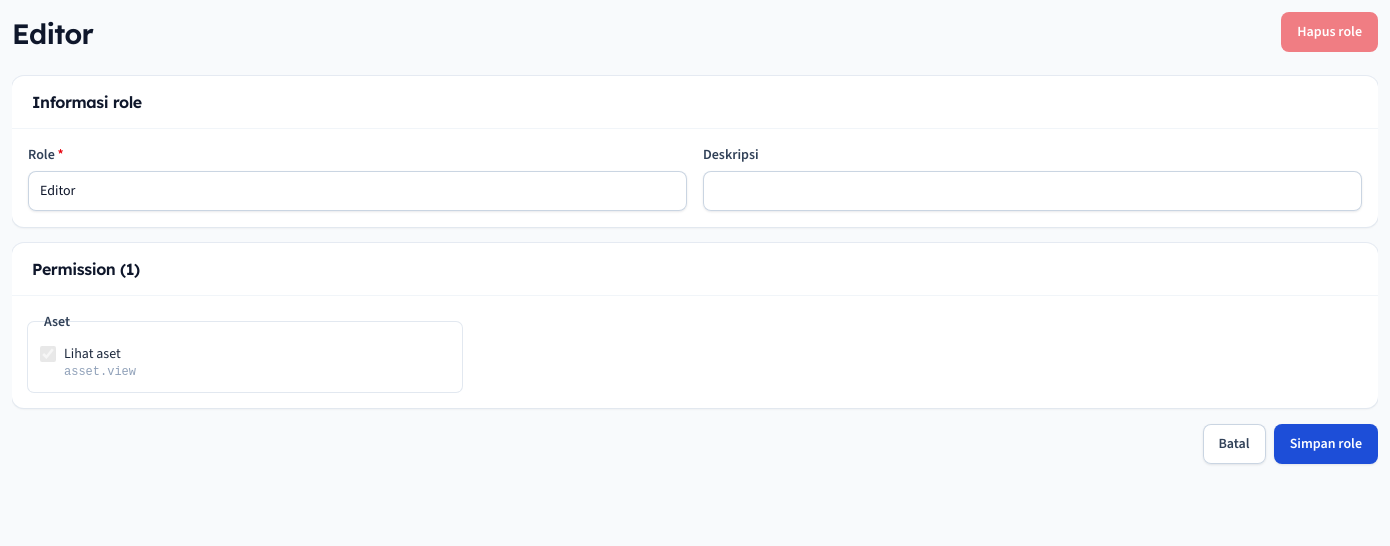
Scenario: RoleFormPage: rejected permission change › stays on the form with the error instead of returning to the list
Expected: the field showing "Editor" is shown, [28, 171, 687, 211]
What coordinates should you click on to do the following:
click the button "Simpan role"
I would click on:
 (1326, 444)
Its box is [1274, 424, 1378, 464].
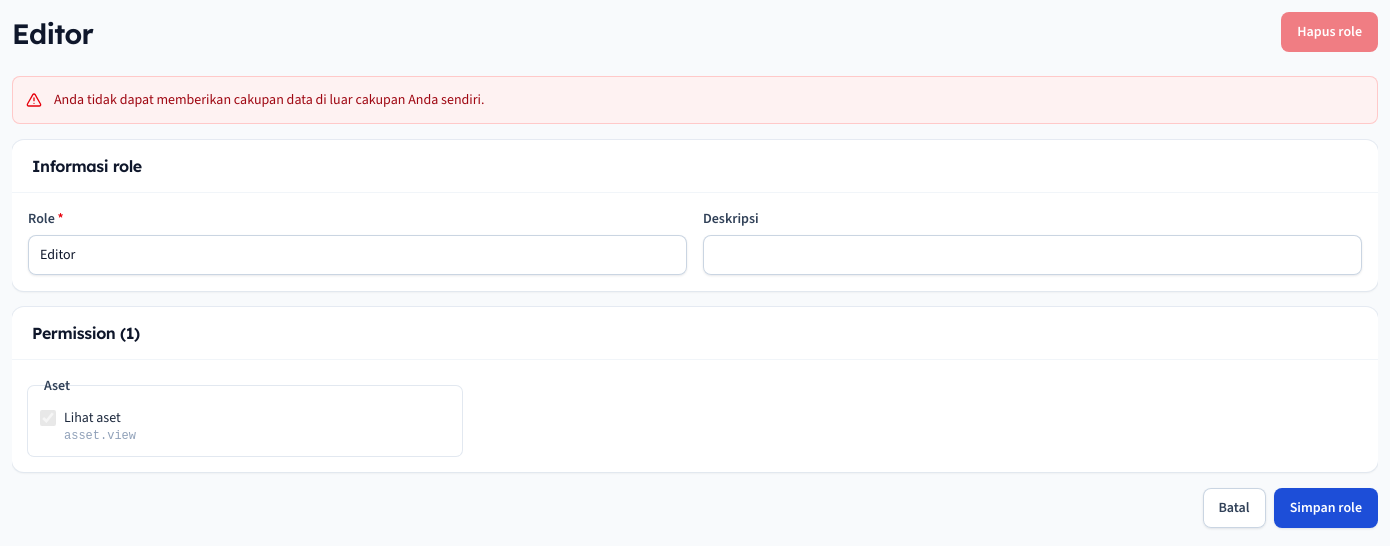
Result: the message reads "Anda tidak dapat memberikan cakupan data di luar cakupan Anda sendiri." at [54, 90, 485, 109]
